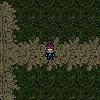Victim: (44, 39, 56, 61)
